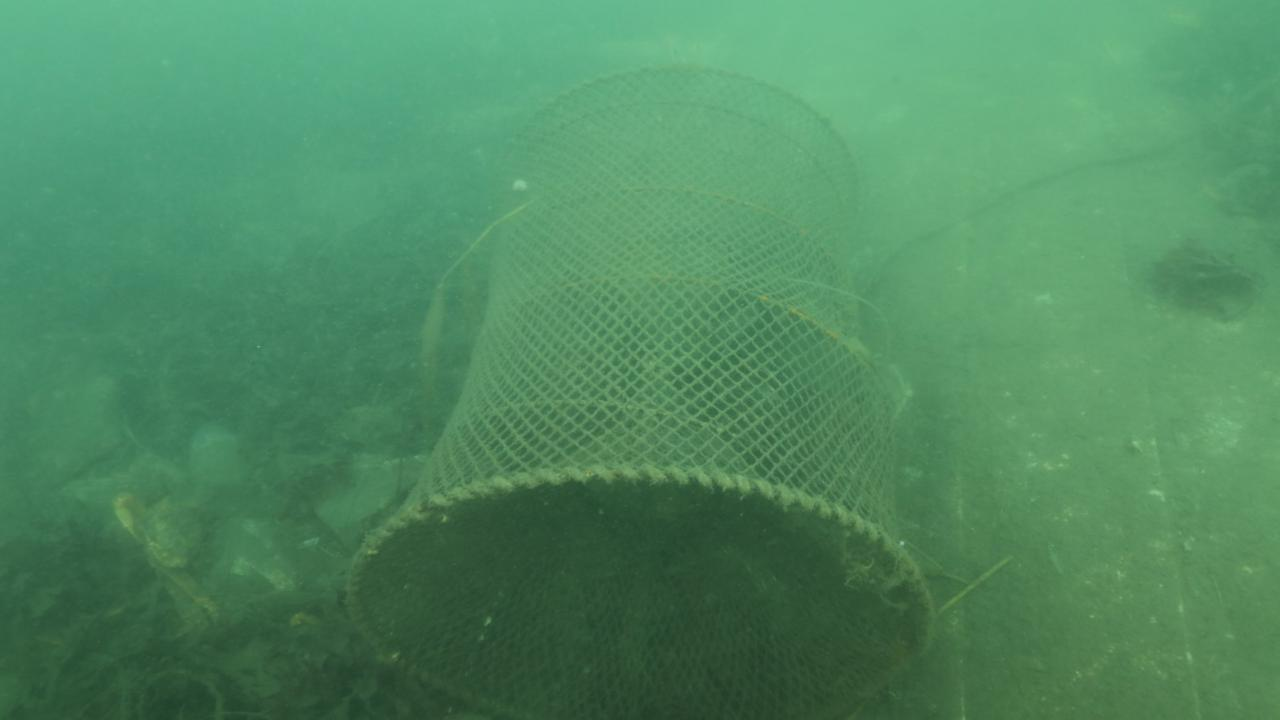spring fish trap: (340, 59, 936, 720)
